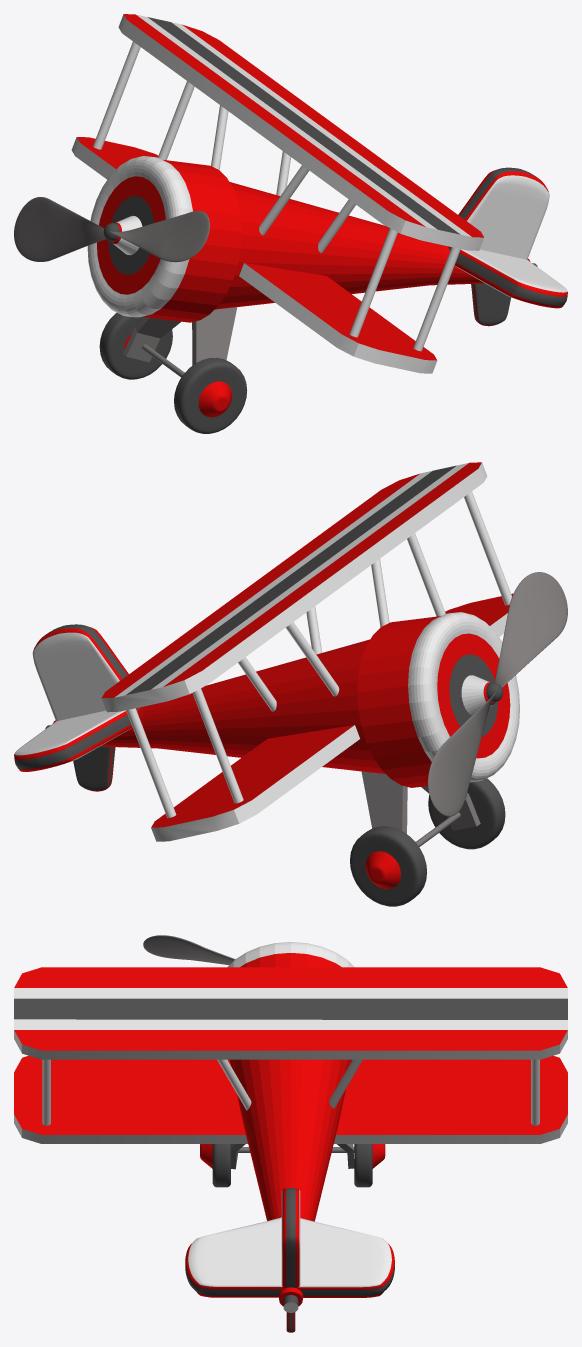
File: Airplane1.fbx
The picture shows the model from 3 angles, top to bottom: view 1: azimuth 30°, elevation 25°; view 2: azimuth 150°, elevation 25°; view 3: azimuth 270°, elevation 25°; orthographic projection. The views are drawn at different scales.
Parts seen in each view (by area): view 1: Ноль_2_2, Ноль_2, Ноль_2_3, Ноль_2_1, Ноль_2_4_2, Ноль_2_4; view 2: Ноль_2_2, Ноль_2, Ноль_2_3, Ноль_2_1, Ноль_2_4, Ноль_2_4_2; view 3: Ноль_2_2, Ноль_2, Ноль_2_3, Ноль_2_1, Ноль_2_4, Ноль_2_4_2.
Part boxes in pixels (x1,y1,x2,y2): Ноль_2_2: [71, 14, 484, 373]; Ноль_2: [87, 156, 537, 365]; Ноль_2_3: [447, 167, 567, 326]; Ноль_2_1: [14, 197, 209, 262]; Ноль_2_4_2: [174, 357, 247, 433]; Ноль_2_4: [99, 312, 172, 379]; Ноль_2_2: [101, 462, 512, 841]; Ноль_2: [45, 612, 519, 833]; Ноль_2_3: [14, 624, 140, 791]; Ноль_2_1: [428, 572, 567, 816]; Ноль_2_4: [350, 826, 426, 906]; Ноль_2_4_2: [428, 778, 505, 849]; Ноль_2_2: [14, 967, 567, 1143]; Ноль_2: [227, 942, 354, 1312]; Ноль_2_3: [185, 1188, 394, 1332]; Ноль_2_1: [143, 935, 235, 964]; Ноль_2_4: [354, 1144, 385, 1187]; Ноль_2_4_2: [200, 1144, 230, 1187].
Size of the model in its own units: 8.62 by 4.79 by 9.41.
